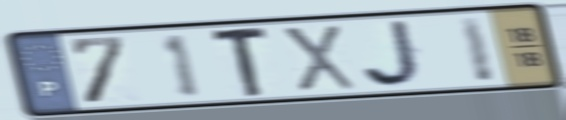1: (159, 30, 201, 101)
7: (68, 34, 131, 107)
I: (455, 13, 500, 86)
J: (359, 18, 429, 90)
T: (209, 23, 272, 100)
X: (277, 23, 360, 94)
